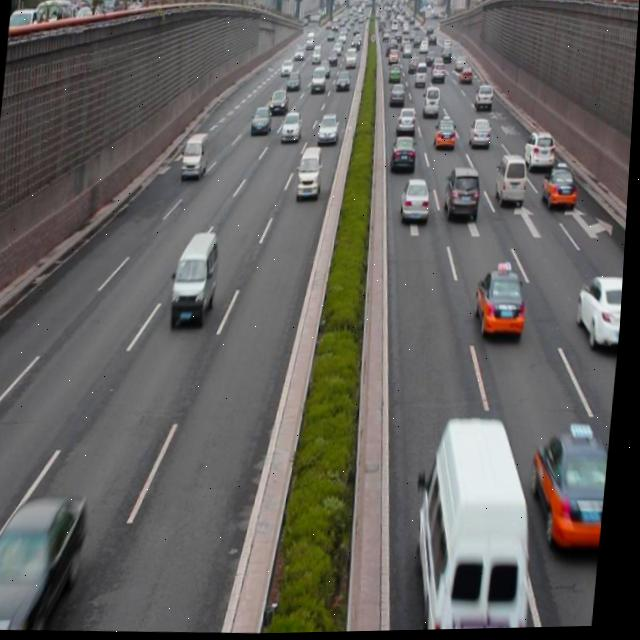car: (0, 489, 94, 633), (531, 421, 611, 555), (574, 273, 627, 359), (475, 265, 531, 342), (541, 164, 580, 216), (446, 167, 481, 223), (400, 179, 432, 226), (522, 131, 554, 175), (391, 136, 417, 175), (433, 119, 457, 152), (395, 106, 418, 139), (470, 118, 491, 152), (281, 112, 303, 143), (319, 117, 340, 147), (252, 108, 275, 134)
truck: (407, 414, 545, 632), (174, 232, 223, 325), (495, 157, 530, 211), (298, 145, 324, 203), (181, 130, 211, 180)
